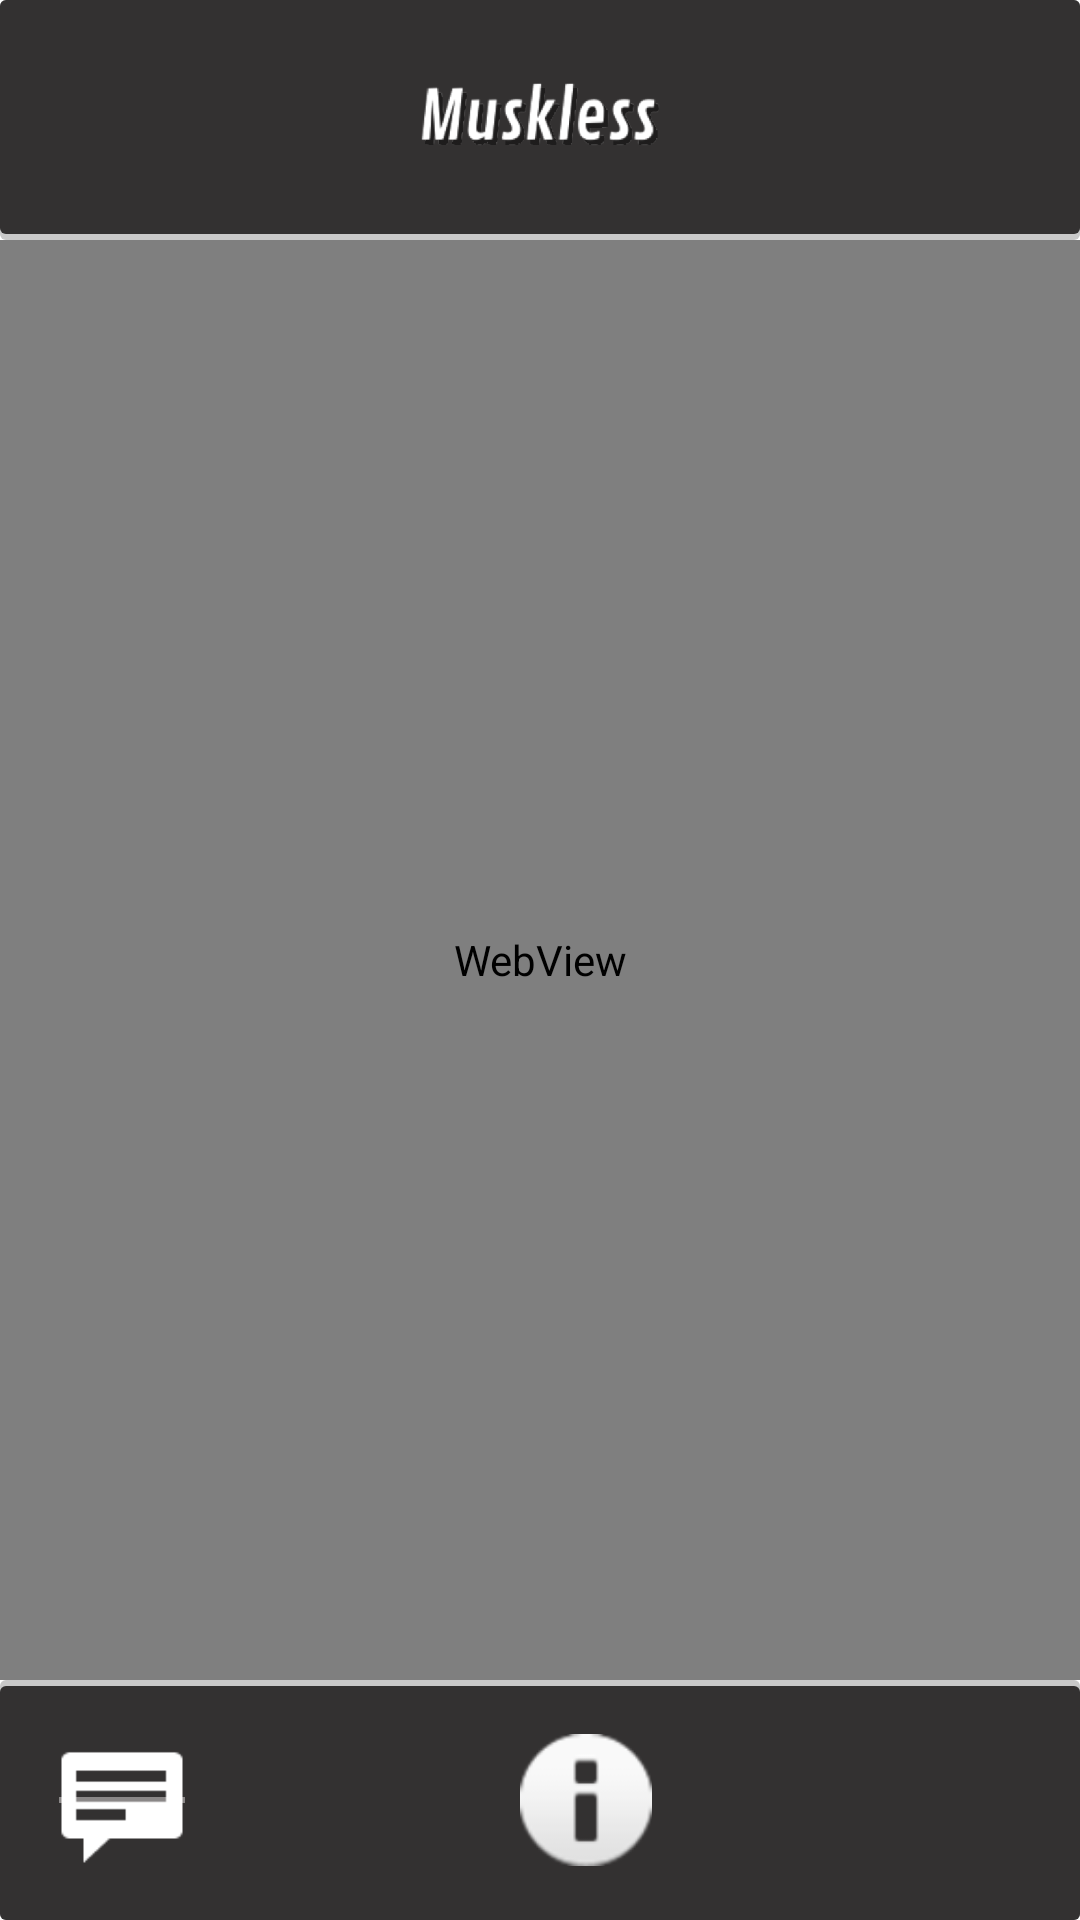

Named icons in this screenshot (1080*1920) and their centers, (x=x, y=y):
chat: (x=122, y=1807)
info: (x=586, y=1800)
